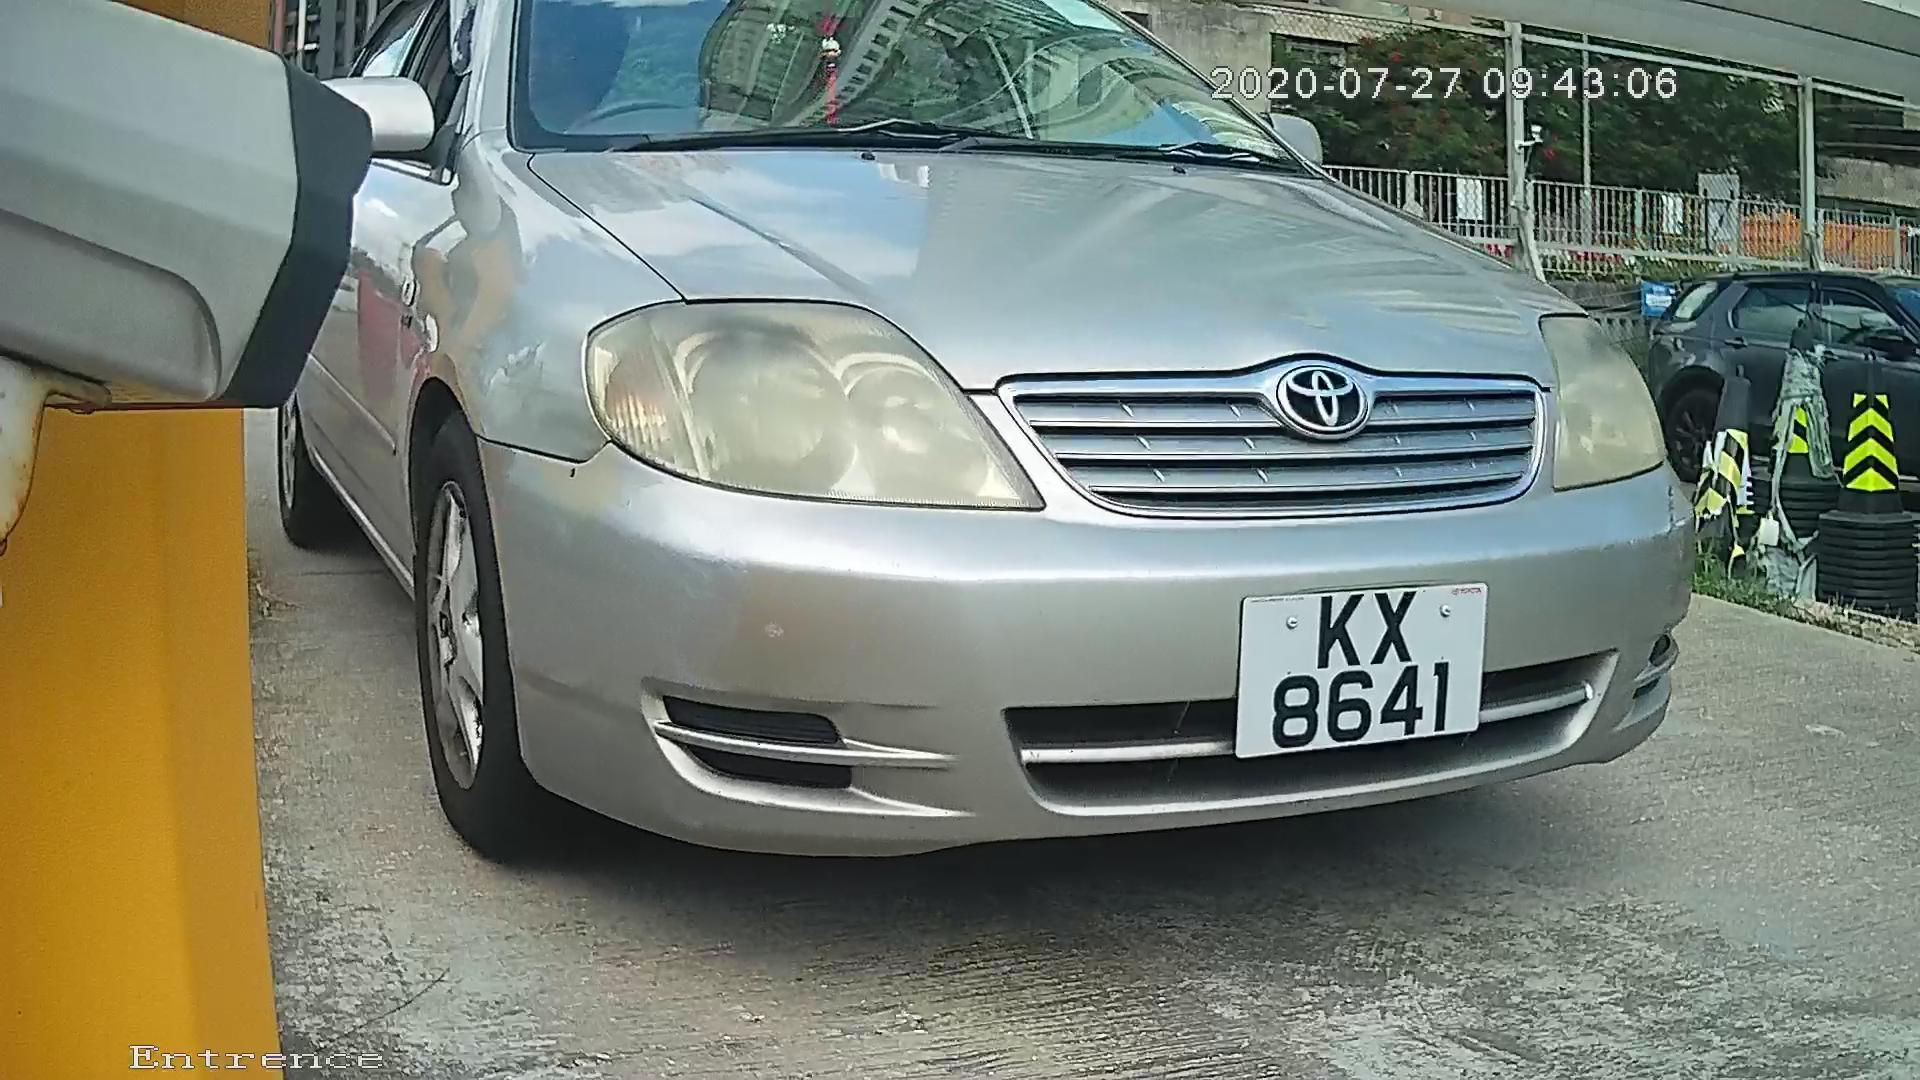License Plate: (1226, 574, 1492, 772)
